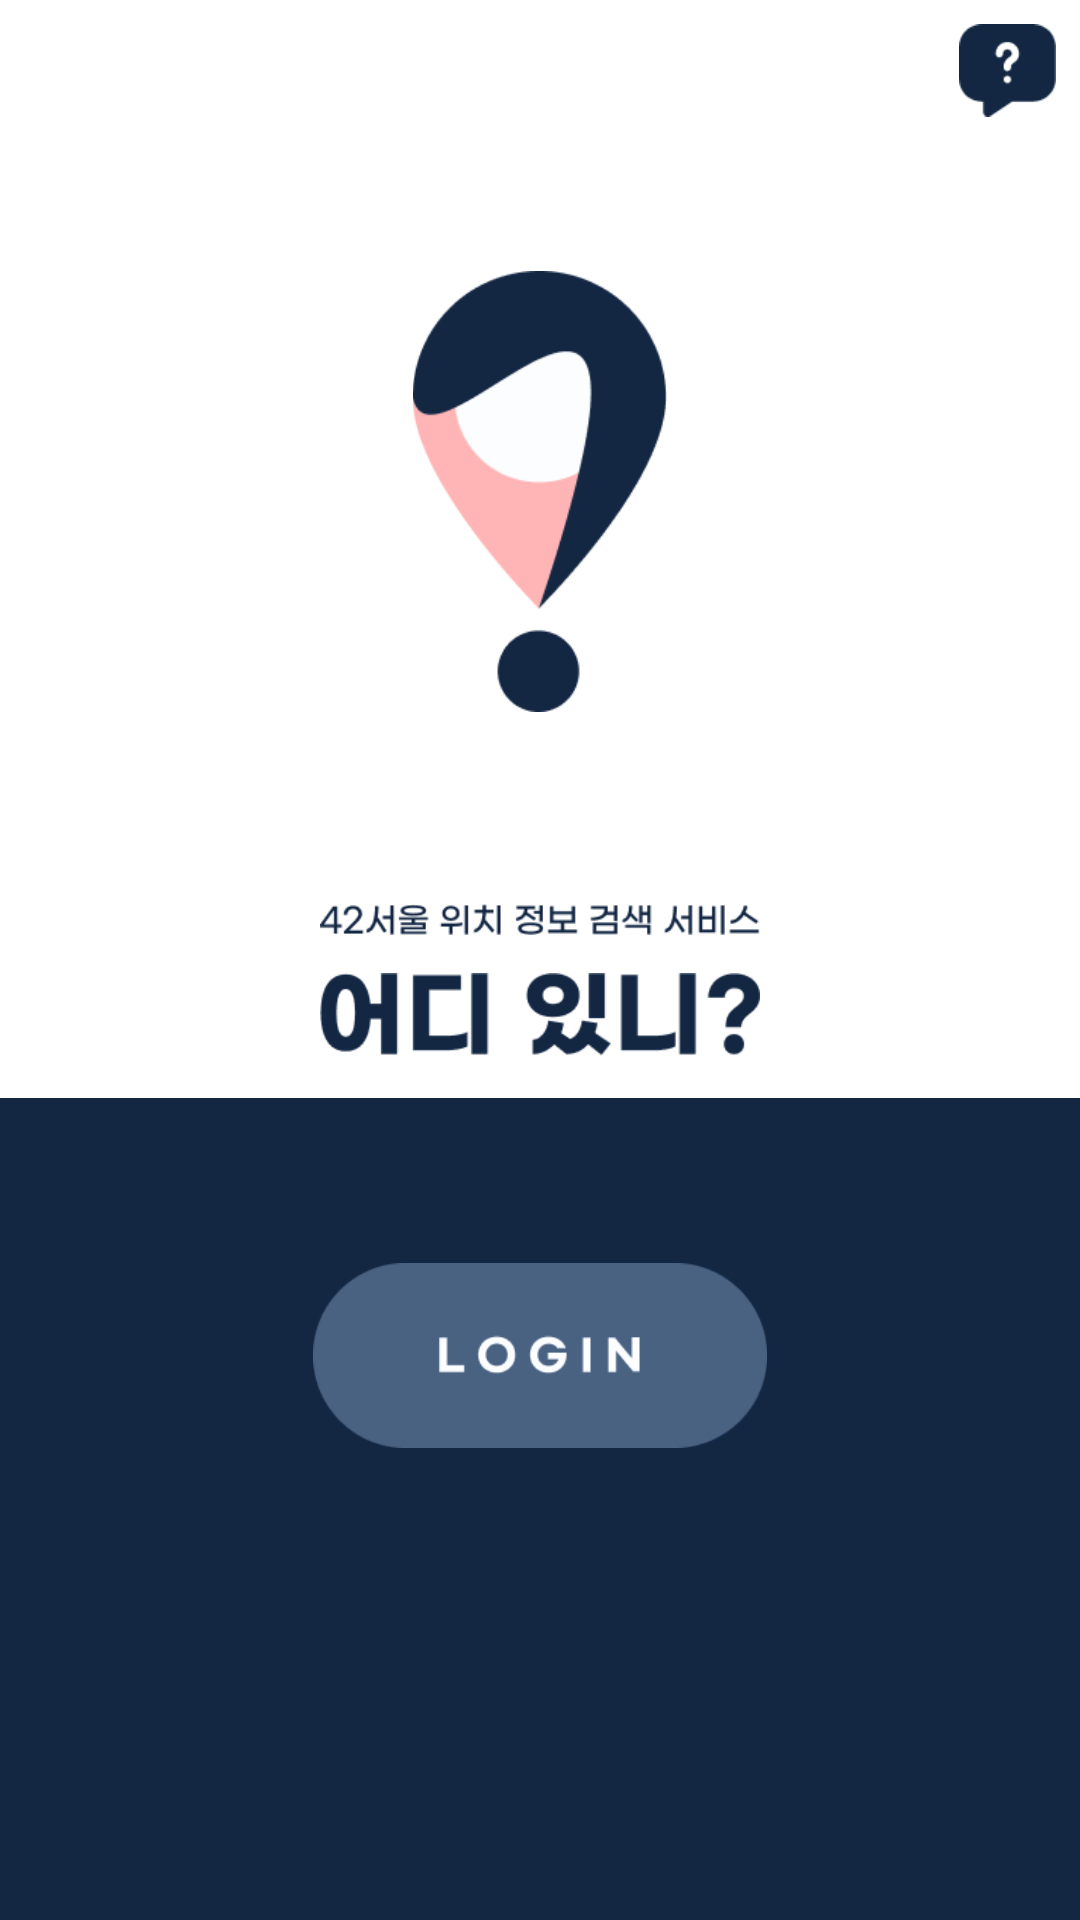

Screen size 1080 x 1920. Icon name, then its box in pixels as [left=x1, top=y1, right=x2, bottom=y2]:
help: [left=959, top=24, right=1056, bottom=117]
